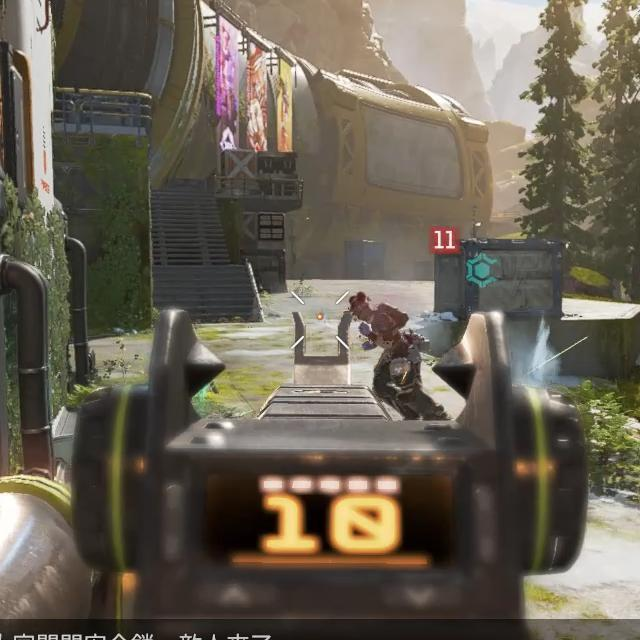avatar: (346, 290, 433, 421)
